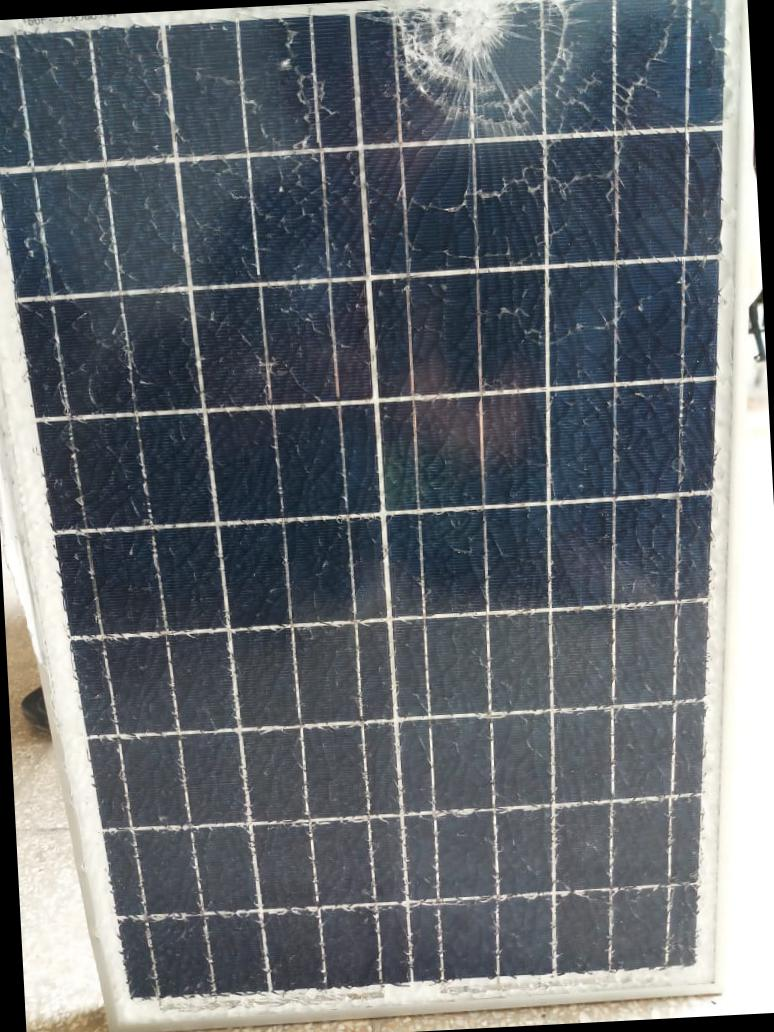Crack: (391, 0, 590, 142)
